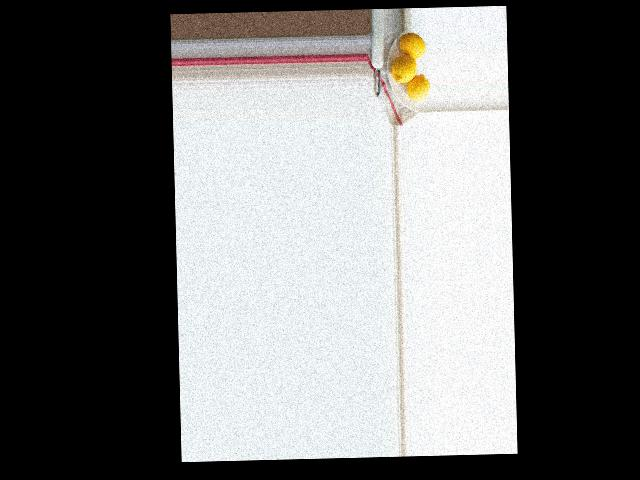lemon: (401, 30, 426, 60)
